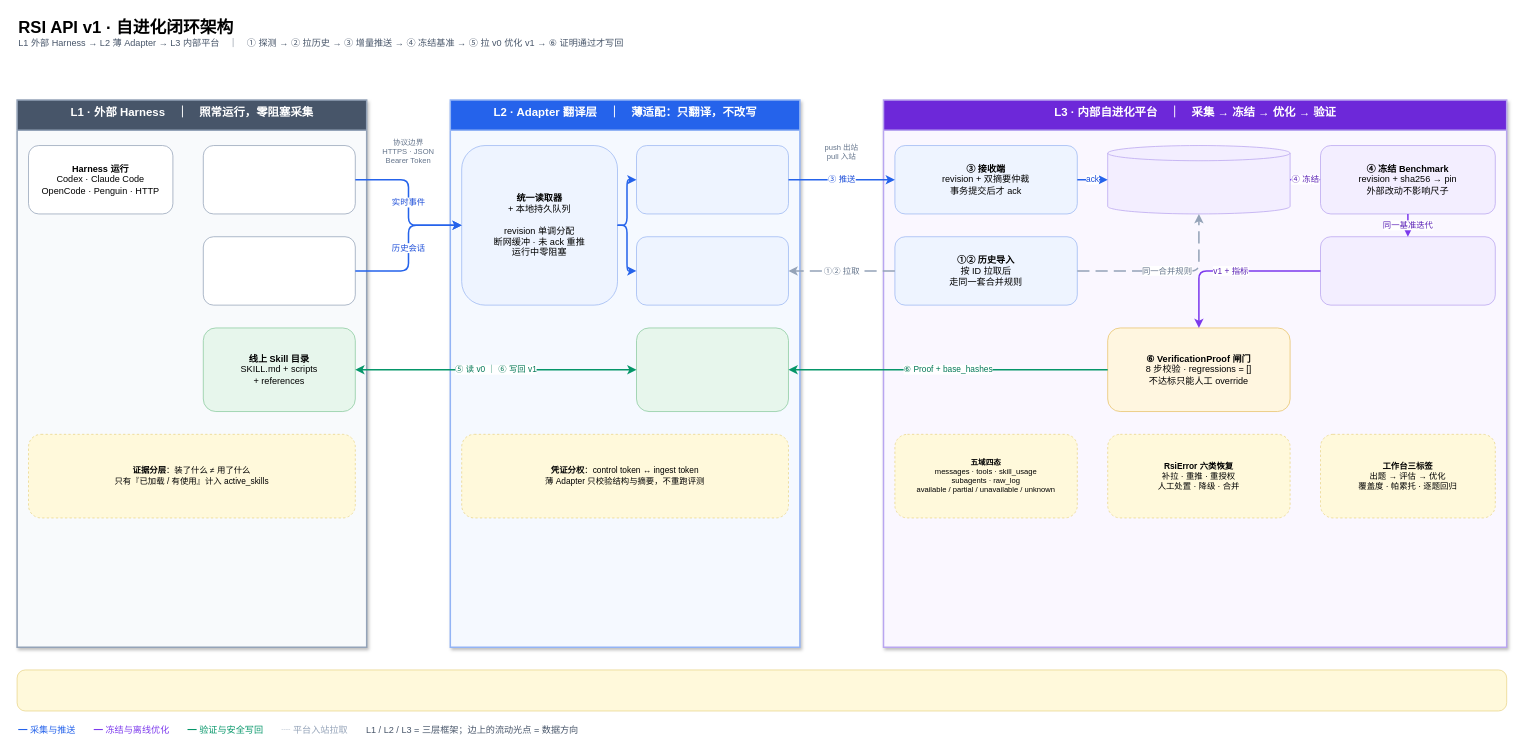
Image size: 1525x754. Some labels were removed from this diagram. The shapes that lost their labels are listed below. From the top down, each one's centre as x and y in pixels, then its label:
(279,179): 观察型 Hook 空 stdout / exit 0 零阻塞、不改行为
(712,179): ③ traces.push delta / snapshot ingest token
(1198,179): rsi_* 独立存储 sessions · revisions
(279,270): 会话与日志 消息 · 工具调用 · 子会话 Skill 使用证据
(712,270): ① harness.info ② traces.list / pull 按 ID 拉完整快照
(1407,270): 隔离优化区 v0 基线 → 候选 v1 同模型同配置 · runs ≥ 2
(712,369): ⑤ skills.pull ⑥ skills.push / rollback 整包 · 备份 · 原子替换
(761,690): 五条架构红线 ：非阻塞采集 · 单源版本仲裁 · 缺口显式不造假 · 先验后写可回滚 · 评测隔离防泄题
